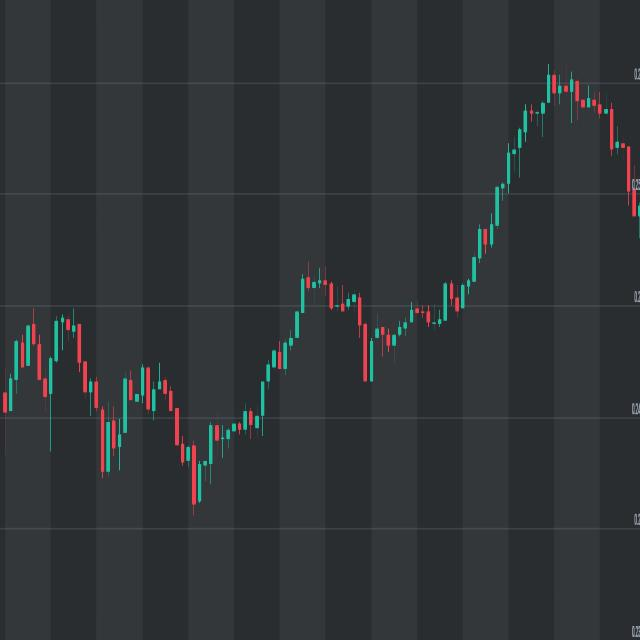Channel-up: (94, 4, 640, 592)
